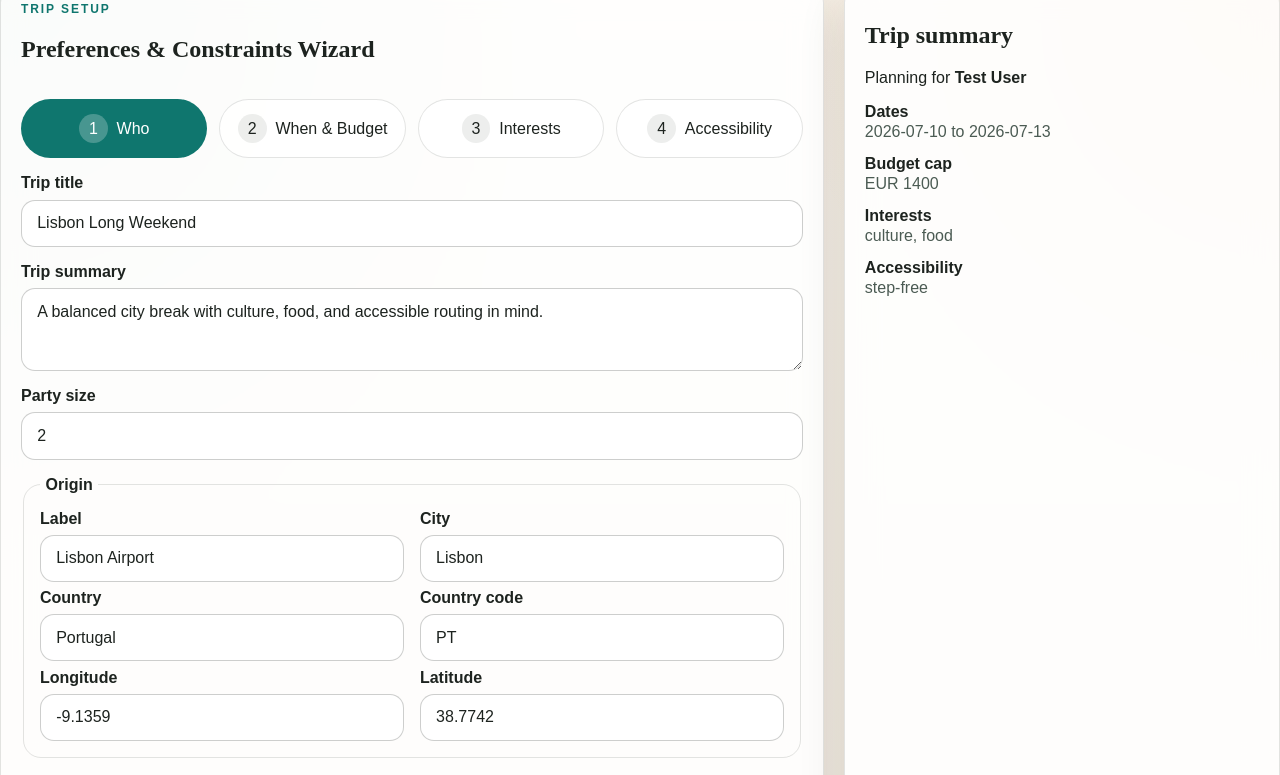
Test: PlanTripPage wizard – validation › shows 'Trip title is required.' when title is cleared and Next is clicked
This screenshot has width=1280, height=775.
Clear the field labelled "Trip title": (412, 223) [21,200,803,247]
(page scrolled)
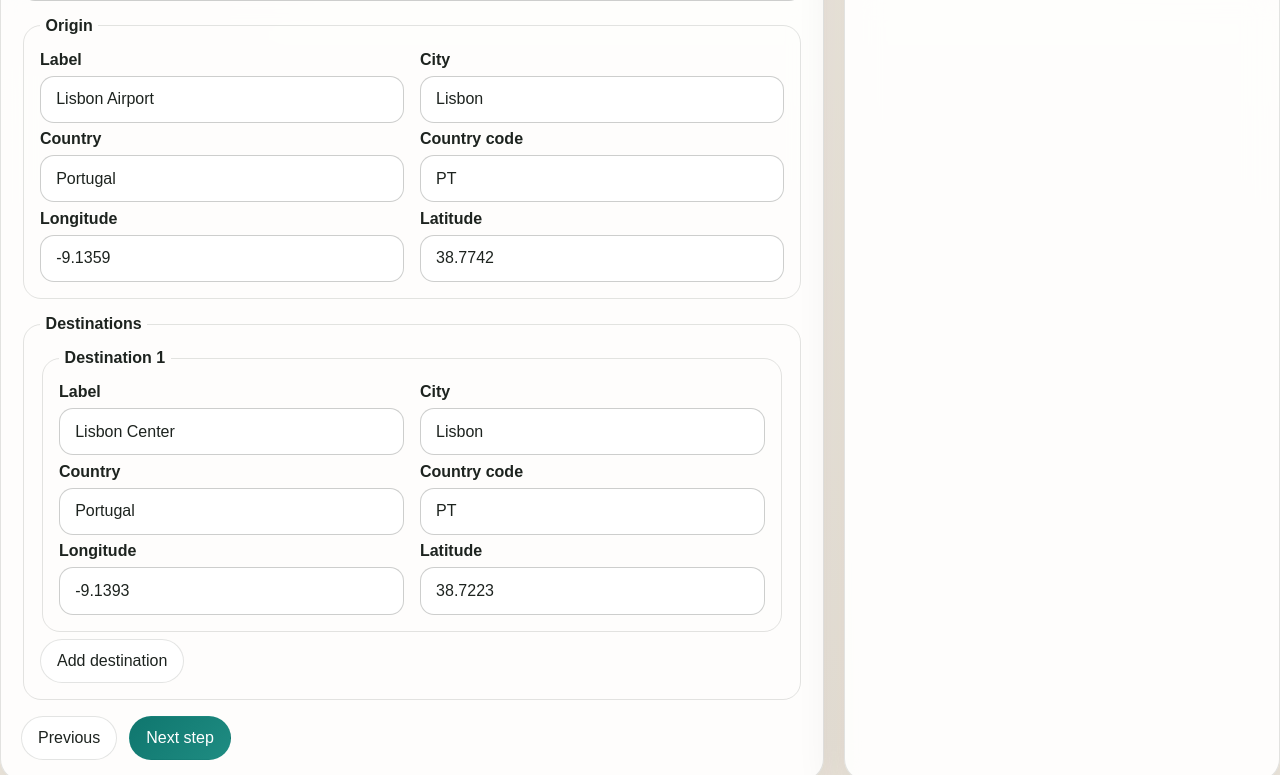
Click the button "Next step": (180, 738) [129,716,231,760]
(page scrolled)
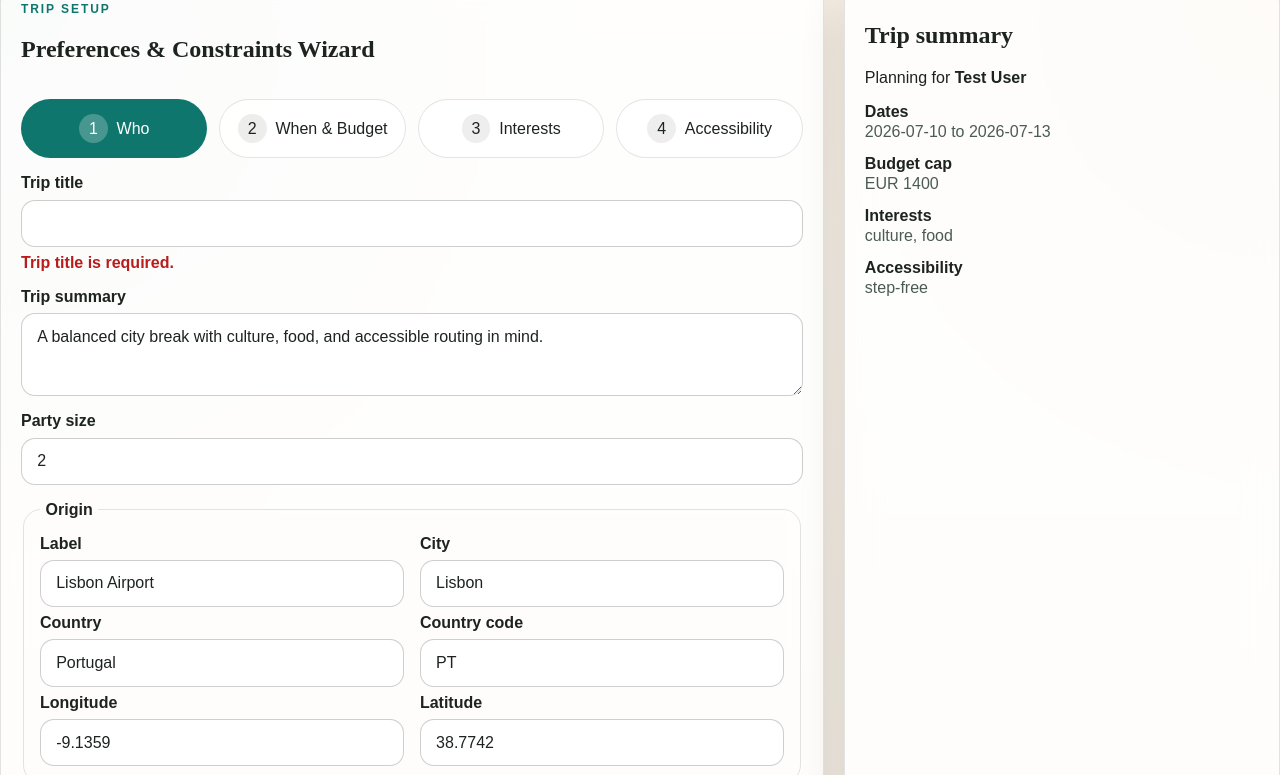
Result: the text "Trip title is required." is shown at [21,254,174,271]
